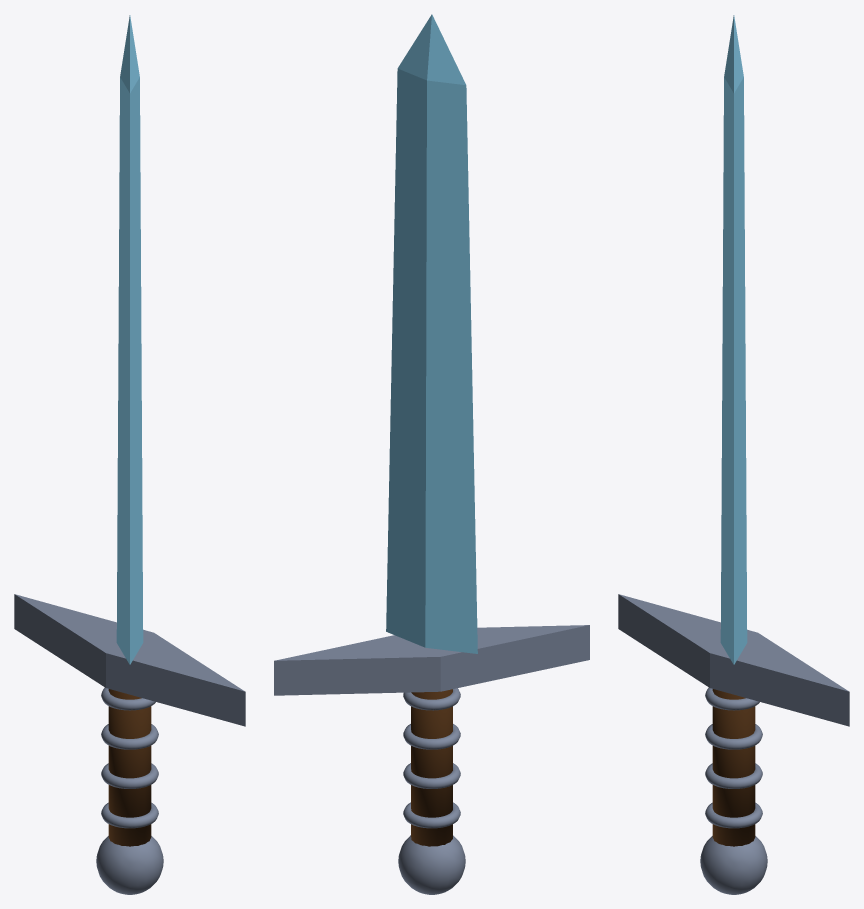
File: sword-2.glb
3 views of the same model, side by side, from view 1: azimuth 90°, elevation 25°; view 2: azimuth 150°, elevation 25°; view 3: azimuth 270°, elevation 25° (orthographic).
Visible parts, largest first — view 1: Guard, Blade, Grip, Wrap0; view 2: Blade, Guard, Grip, Wrap0; view 3: Guard, Blade, Grip, Wrap0.
Part boxes in pixels (bbox=[...]): Guard: bbox=[14, 594, 245, 894]; Blade: bbox=[116, 15, 143, 664]; Grip: bbox=[108, 689, 151, 846]; Wrap0: bbox=[101, 687, 158, 828]; Blade: bbox=[386, 14, 477, 653]; Guard: bbox=[274, 625, 589, 894]; Grip: bbox=[411, 689, 452, 846]; Wrap0: bbox=[403, 688, 460, 828]; Guard: bbox=[618, 594, 849, 894]; Blade: bbox=[720, 15, 747, 664]; Grip: bbox=[712, 689, 755, 846]; Wrap0: bbox=[705, 687, 762, 828].
Bounding box in the file's own units: 0.24 × 1.01 × 0.24.
